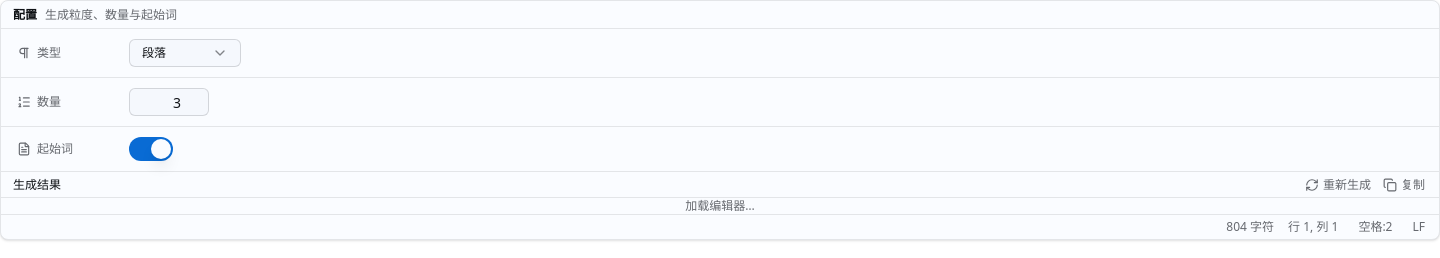
Scenario: LoremIpsum 组件 › count 清空兜底为 1
This screenshot has width=1440, height=258.
Step 1. Clear the number field with test id "lorem-count" → (169, 102), box x1=129 y1=88 x2=209 y2=116
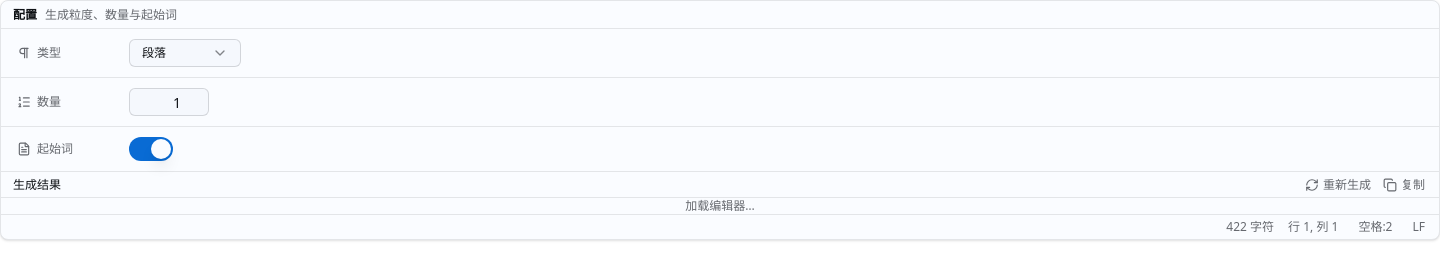
expect the number field with test id "lorem-count" holds "1": met, box x1=129 y1=88 x2=209 y2=116
